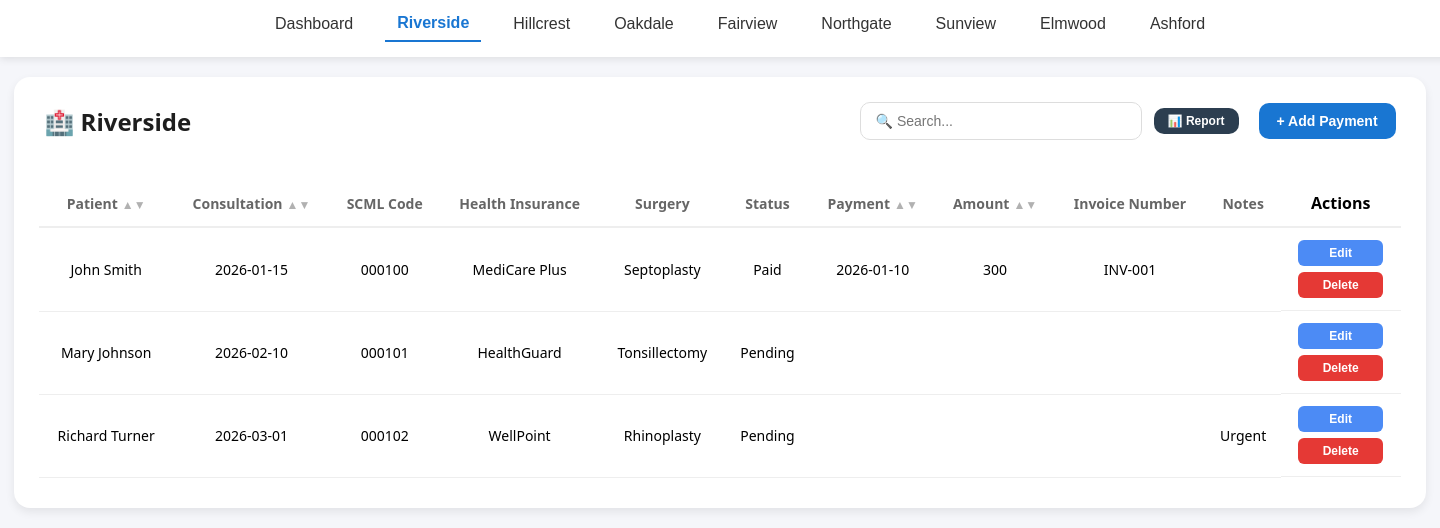
Test: Report Generation › should close the report popover when clicking the Report button again
Check: the table with class "styled-table" is shown, box 39,180 -> 1400,478
Click the button with class "report".
click(1197, 121)  # box 1154,108 -> 1239,134
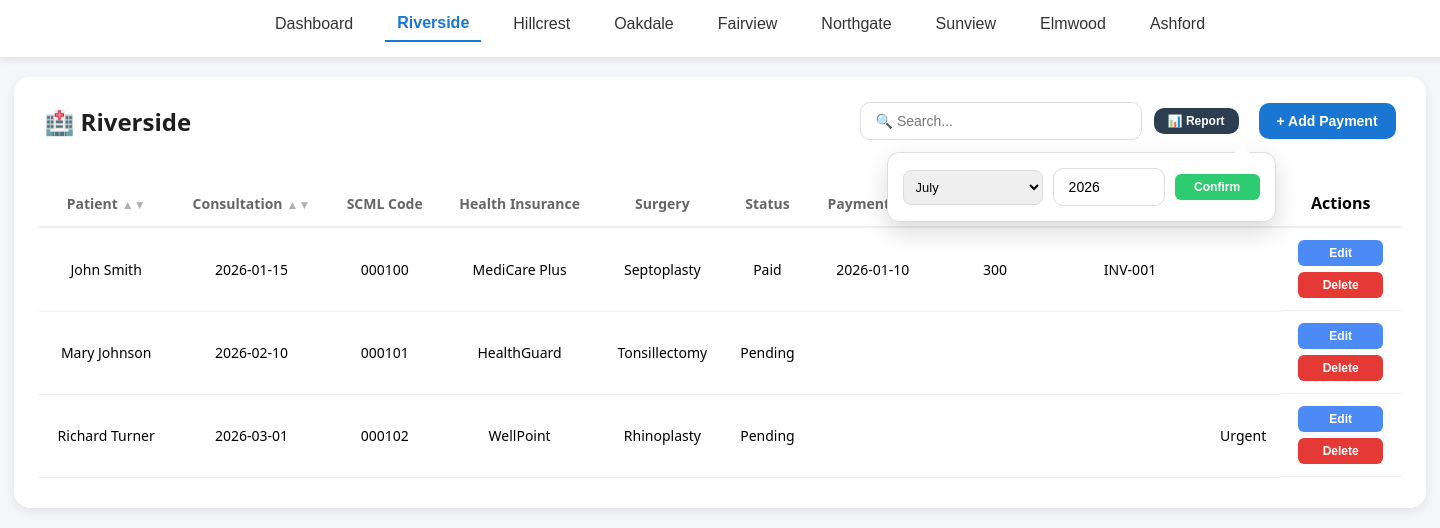
Check: the element with class "report-popover" is shown, box 887,152 -> 1276,222
Click the button with class "report".
click(1197, 121)  # box 1154,108 -> 1239,134
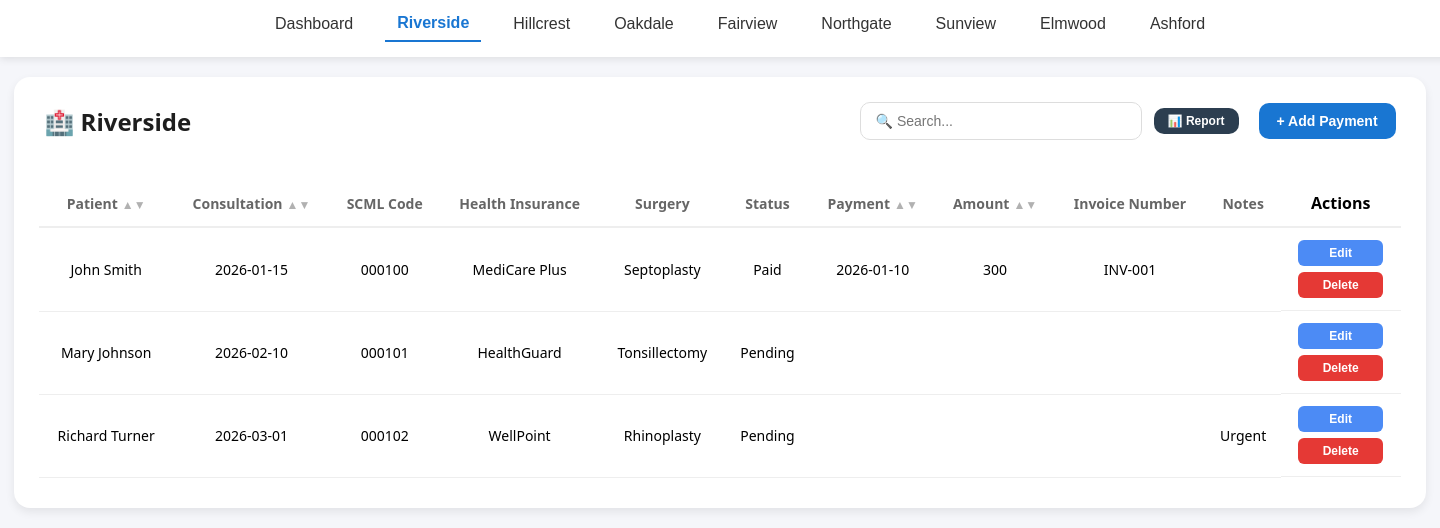
Check: the element with class "report-popover" is gone
